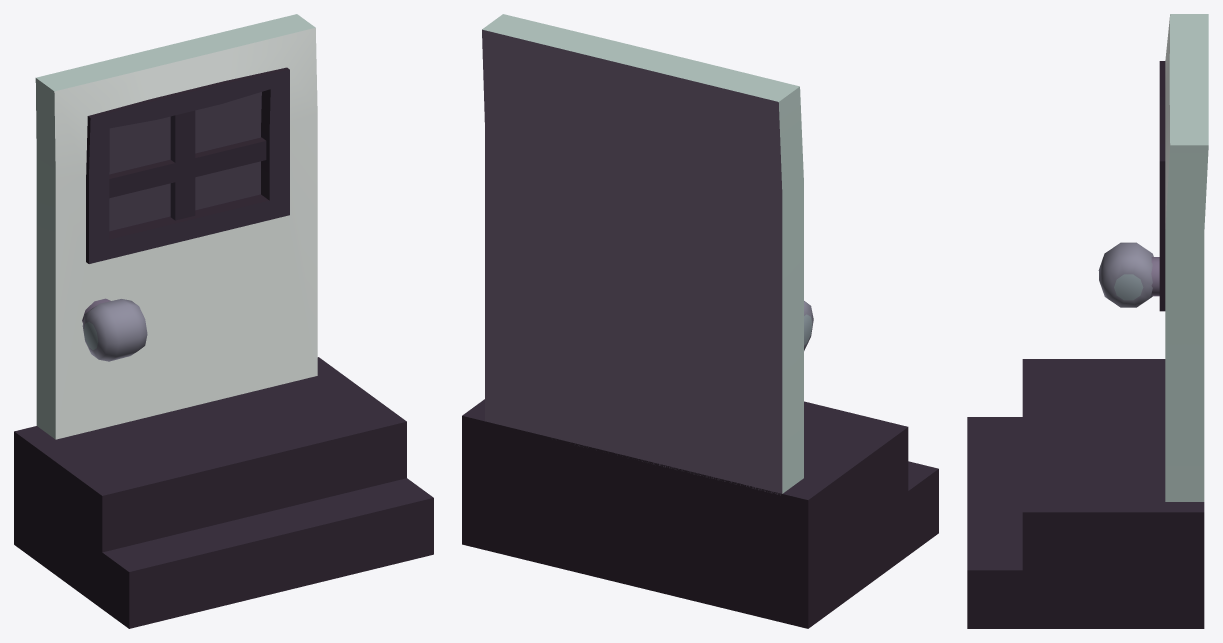
Rendered from Door02_Black_White.glb.
The picture shows the model from 3 angles, left to right: view 1: azimuth 30°, elevation 25°; view 2: azimuth 150°, elevation 25°; view 3: azimuth 270°, elevation 25°; orthographic projection. The views are drawn at different scales.
Parts seen in each view (by area): view 1: Door02_Black_White; view 2: Door02_Black_White; view 3: Door02_Black_White.
Part boxes in pixels (x1=…): Door02_Black_White: x1=14, y1=14, x2=433, y2=628; Door02_Black_White: x1=462, y1=14, x2=938, y2=628; Door02_Black_White: x1=967, y1=14, x2=1208, y2=628.
Bounding box in the file's own units: 0.9795 × 1.41 × 0.6527.
Materials: 1 (1 with a texture image).
